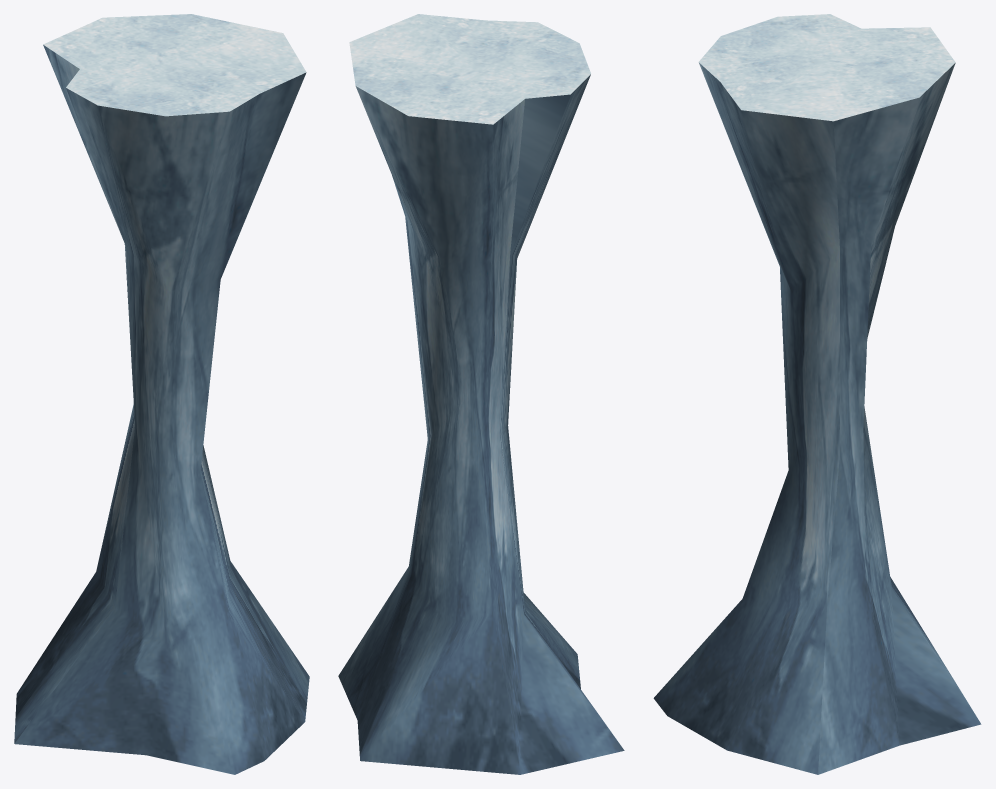
3 renders of one model, left to right at view 1: azimuth 30°, elevation 25°; view 2: azimuth 150°, elevation 25°; view 3: azimuth 270°, elevation 25°, orthographic.
Parts seen in each view (by area): view 1: wj10; view 2: wj10; view 3: wj10.
Part boxes in pixels (box(x1,y1,x2,y2)): wj10: box(14, 14, 309, 774); wj10: box(338, 14, 624, 774); wj10: box(653, 14, 981, 774).
Size of the model in its own units: 572 by 1208 by 557.
1 material, 1 textured.
